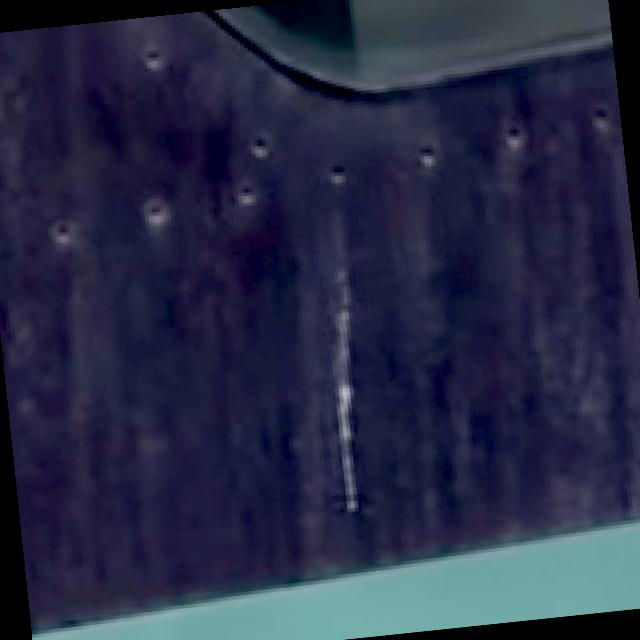crack: (288, 259, 388, 522)
